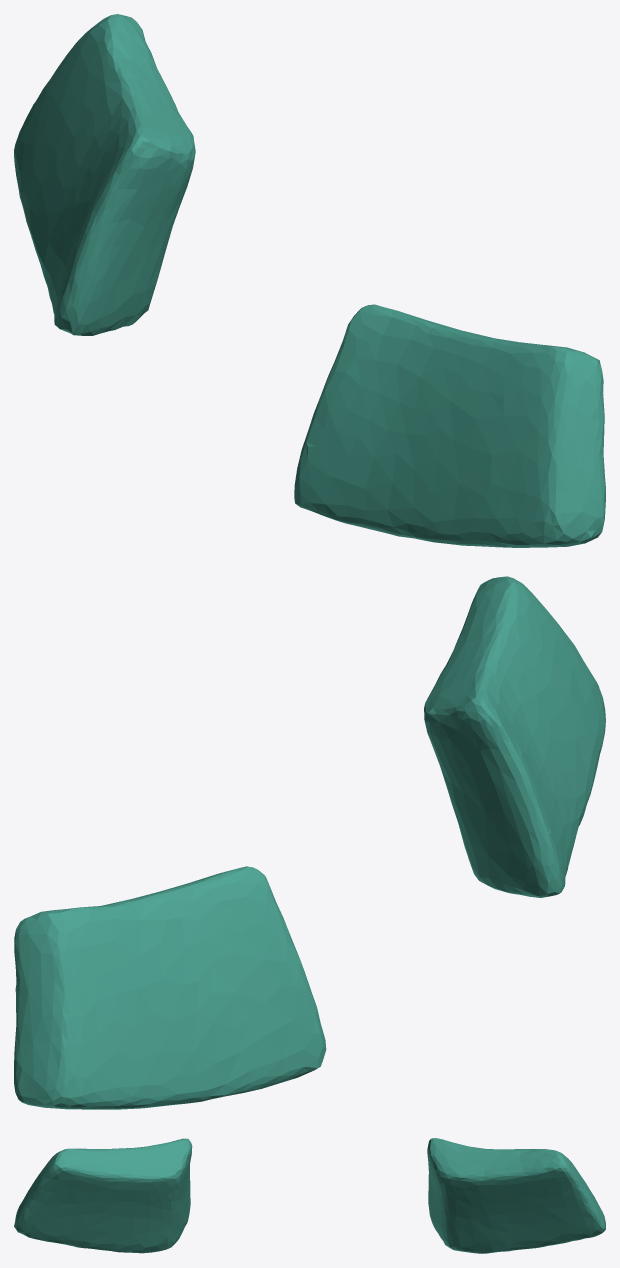
The picture shows the model from 3 angles, top to bottom: view 1: azimuth 30°, elevation 25°; view 2: azimuth 150°, elevation 25°; view 3: azimuth 270°, elevation 25°; orthographic projection. The views are drawn at different scales.
Parts seen in each view (by area): view 1: 361.obj; view 2: 361.obj; view 3: 361.obj.
Boxes of the visible parts, x1=… form: 361.obj: x1=14, y1=14, x2=605, y2=547; 361.obj: x1=14, y1=576, x2=605, y2=1109; 361.obj: x1=14, y1=1138, x2=605, y2=1253.
Size of the model in its own units: 1115 by 1206 by 5473.
